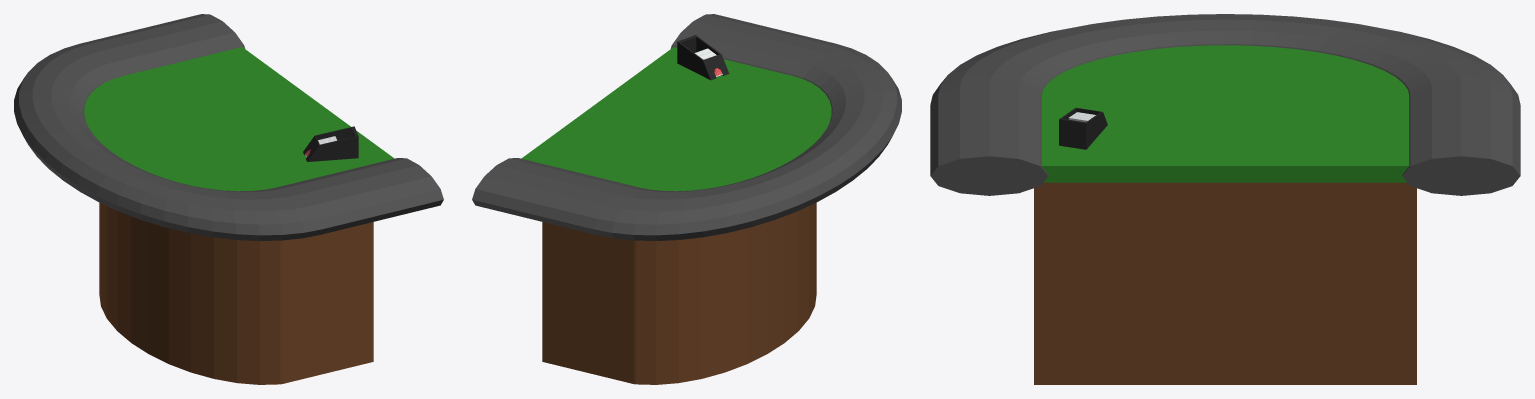
File: BLACKJACKTAFEL3.glb
3 views of the same model, side by side, from view 1: azimuth 30°, elevation 25°; view 2: azimuth 150°, elevation 25°; view 3: azimuth 270°, elevation 25° (orthographic). The views are drawn at different scales.
Visible parts, largest first — view 1: Cylinder, Torus, Plane, Cube.001; view 2: Cylinder, Torus, Plane, Cube.001; view 3: Cylinder, Plane, Torus, Cube.001.
Boxes of the visible parts, bbox=[...] form: Cylinder: bbox=[99, 202, 373, 384]; Torus: bbox=[14, 14, 443, 240]; Plane: bbox=[84, 47, 394, 191]; Cube.001: bbox=[303, 126, 358, 161]; Cylinder: bbox=[542, 202, 816, 384]; Torus: bbox=[472, 14, 901, 240]; Plane: bbox=[521, 47, 831, 191]; Cube.001: bbox=[677, 35, 729, 80]; Cylinder: bbox=[1034, 182, 1416, 384]; Plane: bbox=[1041, 45, 1409, 182]; Torus: bbox=[930, 14, 1520, 195]; Cube.001: bbox=[1059, 107, 1107, 149].
Bounding box in the file's own units: 3.03 × 2.43 × 4.93.
Materials: 5 (1 with a texture image).
